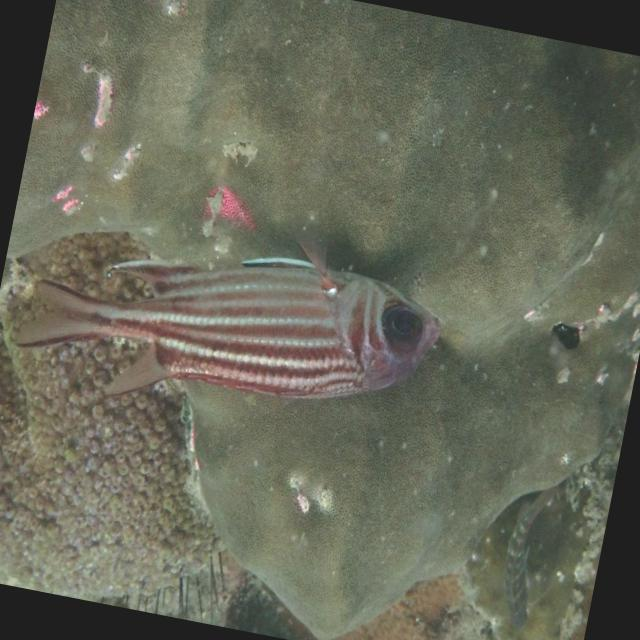Asker Baligi: (0, 167, 466, 466)
